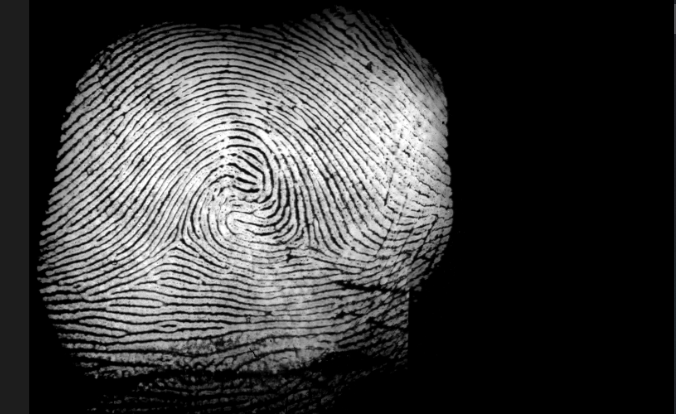nucelo: (220, 205, 259, 242)
verticilo: (283, 223, 320, 253), (161, 230, 195, 256)
